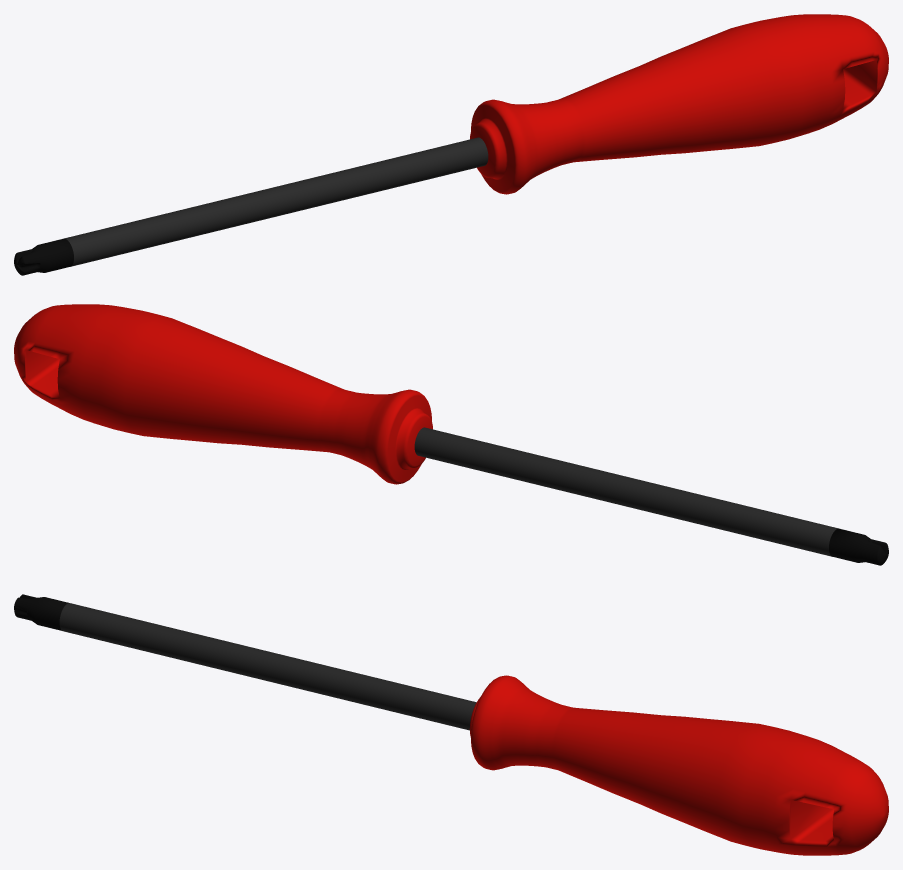
Rendered from screwdriver.dae.
3 renders of one model, top to bottom at view 1: azimuth 30°, elevation 25°; view 2: azimuth 150°, elevation 25°; view 3: azimuth 330°, elevation 25°, orthographic.
Visible parts, largest first — view 1: 3DSMesh_0, 3DSMesh_2, 3DSMesh_1; view 2: 3DSMesh_0, 3DSMesh_2, 3DSMesh_1; view 3: 3DSMesh_0, 3DSMesh_2, 3DSMesh_1.
Boxes of the visible parts, <box> form: 3DSMesh_0: <box>470,14,888,194</box>; 3DSMesh_2: <box>64,137,488,266</box>; 3DSMesh_1: <box>14,238,73,275</box>; 3DSMesh_0: <box>14,304,432,484</box>; 3DSMesh_2: <box>414,427,838,556</box>; 3DSMesh_1: <box>829,528,888,565</box>; 3DSMesh_0: <box>469,675,888,855</box>; 3DSMesh_2: <box>59,603,476,730</box>; 3DSMesh_1: <box>14,594,68,630</box>.
Bounding box in the file's own units: 8.3 × 1.02 × 1.02.
